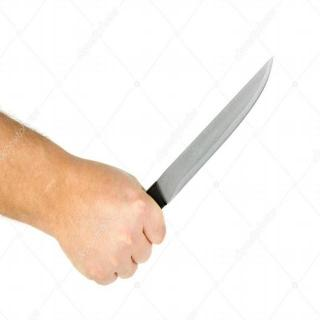knife: (101, 51, 279, 283)
